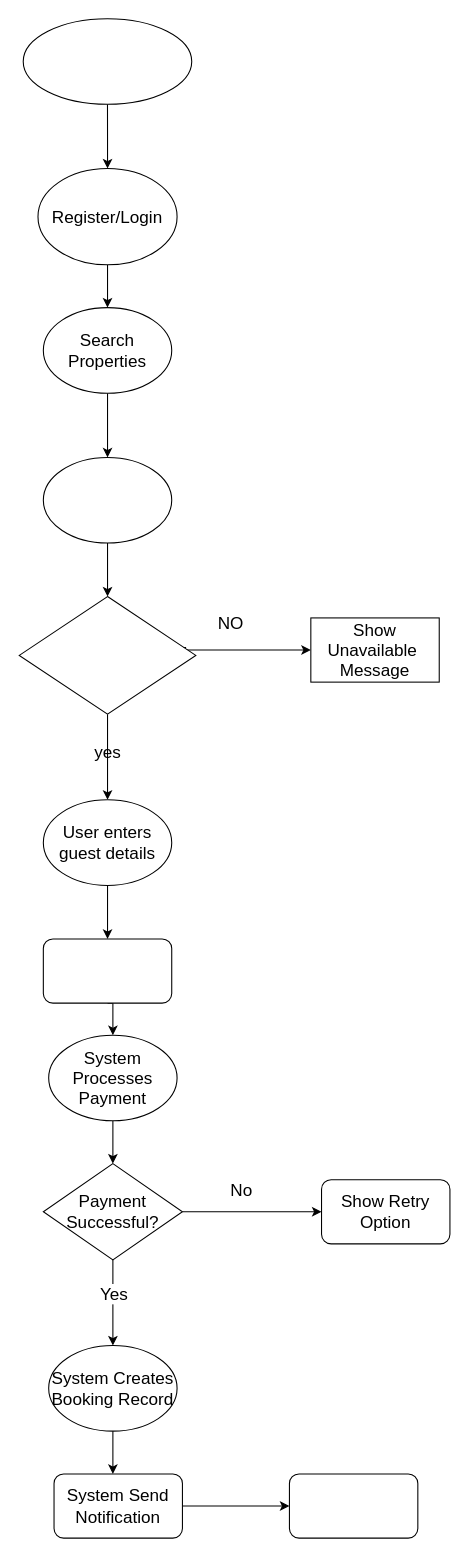
This 469x1557 diagram has some shape labels left out. Here are the shapes that lost their labels. From the top down, the centre of each, then its label:
pixel 107 61: Start
pixel 107 499: Select Specific Dates
pixel 107 654: Dates Available?
pixel 107 970: Calculate The Total Price
